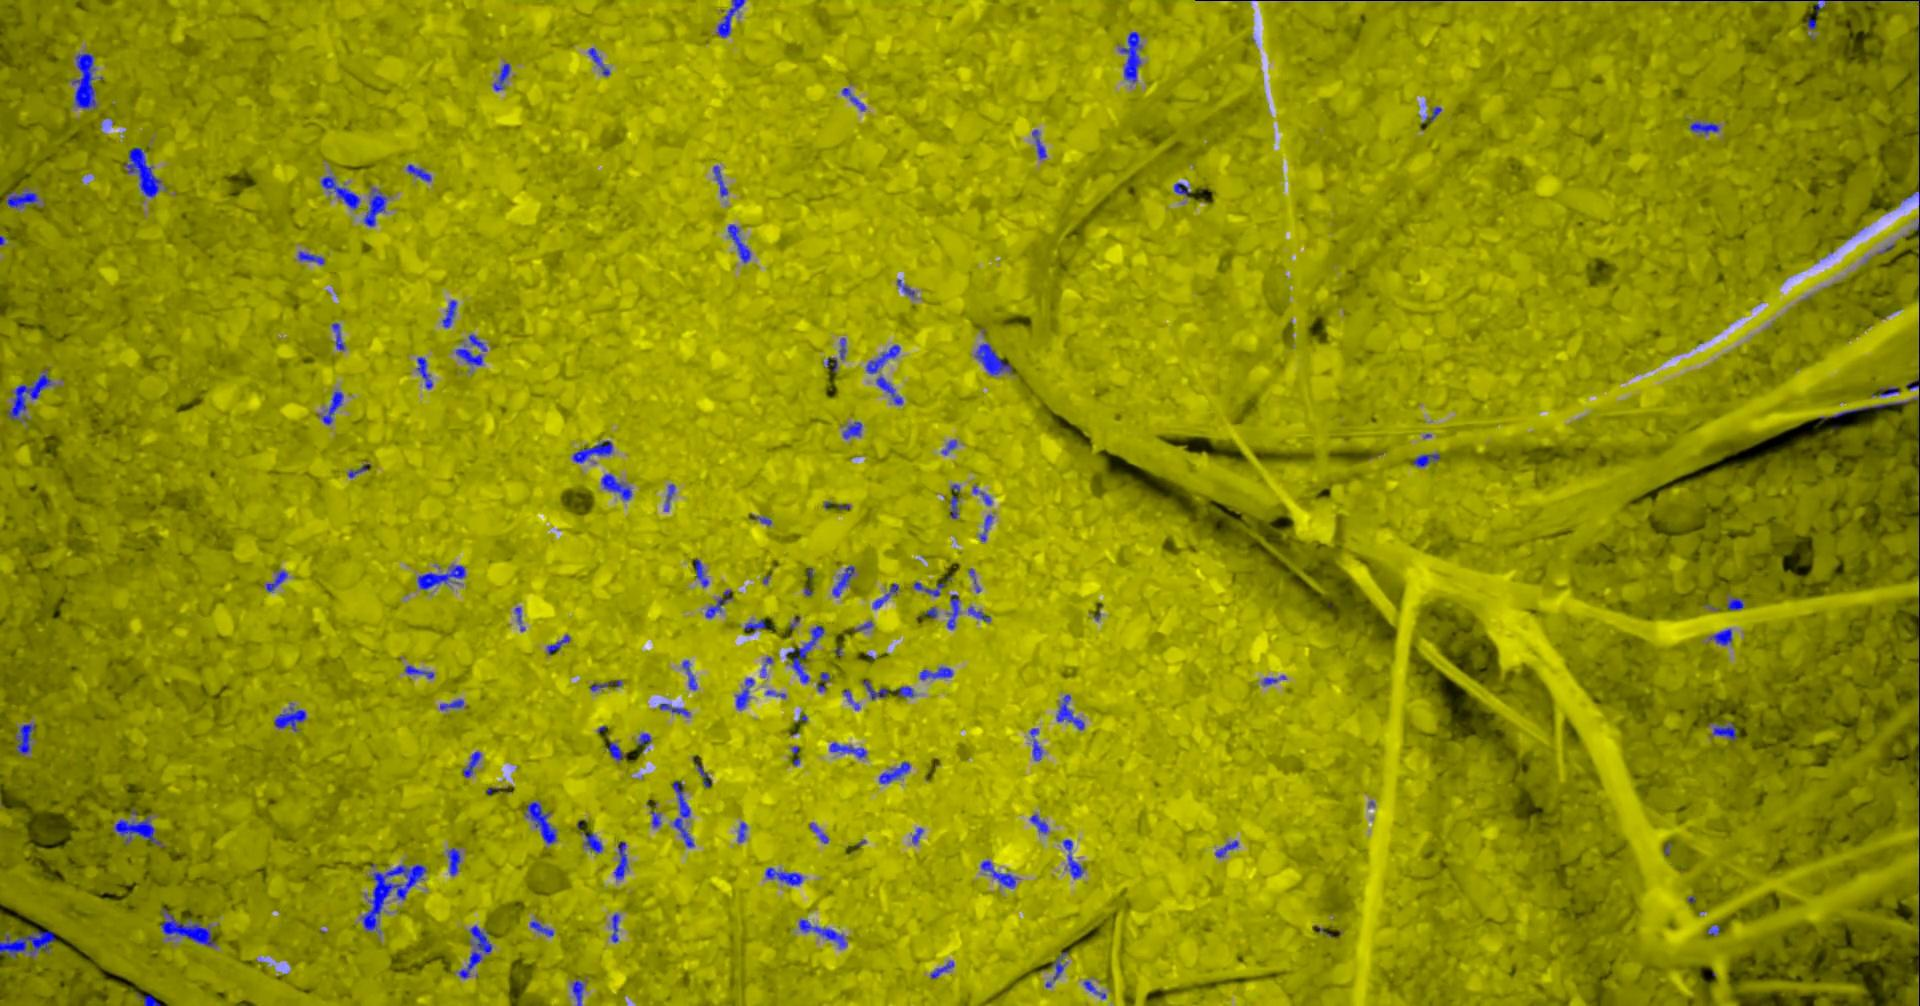ant: (160, 907, 215, 946), (8, 373, 51, 420), (789, 625, 823, 682), (123, 147, 160, 197), (458, 925, 491, 978), (670, 780, 695, 847), (1818, 401, 1907, 419), (0, 930, 55, 956), (797, 918, 846, 948), (320, 175, 359, 210), (113, 815, 161, 843), (524, 801, 556, 843), (71, 53, 95, 108), (1119, 30, 1142, 83), (417, 565, 465, 589), (974, 343, 1011, 373), (716, 0, 744, 37), (1057, 694, 1084, 729), (980, 860, 1016, 888), (866, 344, 899, 373), (571, 439, 612, 462), (363, 188, 386, 226), (728, 224, 750, 262), (1062, 840, 1083, 878), (601, 473, 631, 499), (875, 376, 902, 404), (705, 589, 731, 617), (274, 706, 305, 730), (321, 391, 343, 424), (832, 565, 855, 596), (877, 761, 909, 782), (764, 868, 803, 885), (825, 337, 844, 371), (872, 583, 898, 608), (587, 47, 610, 75), (829, 742, 866, 758), (17, 723, 36, 754), (841, 86, 865, 111), (735, 678, 753, 709), (613, 841, 627, 879), (5, 191, 37, 207), (491, 64, 510, 90), (546, 634, 570, 654), (417, 356, 432, 387), (862, 680, 888, 699), (1050, 951, 1067, 981), (462, 751, 480, 777), (712, 165, 728, 196), (913, 580, 943, 596), (695, 757, 710, 788), (455, 348, 483, 365), (919, 666, 952, 680), (265, 570, 287, 591), (1712, 723, 1736, 741), (1031, 130, 1046, 158), (441, 298, 456, 326), (693, 558, 709, 586), (659, 702, 690, 716), (809, 822, 828, 843), (1215, 840, 1238, 857), (930, 960, 952, 978), (406, 164, 430, 180), (946, 594, 957, 629), (682, 661, 696, 688), (1689, 121, 1719, 133), (583, 832, 602, 852), (1709, 627, 1731, 645), (1083, 981, 1105, 998), (968, 606, 990, 622), (530, 920, 552, 936), (404, 666, 433, 678), (971, 486, 990, 506), (1029, 814, 1048, 833), (447, 847, 460, 875), (949, 484, 959, 518), (331, 323, 344, 349), (842, 420, 861, 438), (1412, 453, 1439, 466), (608, 741, 626, 760), (842, 688, 858, 709), (297, 251, 323, 264), (979, 514, 992, 540), (589, 680, 621, 690), (663, 484, 674, 511), (897, 279, 914, 296), (469, 334, 486, 351), (347, 464, 367, 478), (571, 981, 583, 1005), (1173, 182, 1190, 197), (1870, 386, 1898, 395), (743, 619, 764, 630), (439, 699, 463, 709), (817, 672, 829, 691), (611, 913, 618, 942), (941, 439, 956, 453), (637, 733, 650, 749), (1032, 739, 1043, 760), (1726, 597, 1743, 608), (1263, 674, 1286, 683), (897, 686, 913, 697), (650, 809, 660, 827), (737, 822, 745, 842), (143, 995, 160, 1005)
